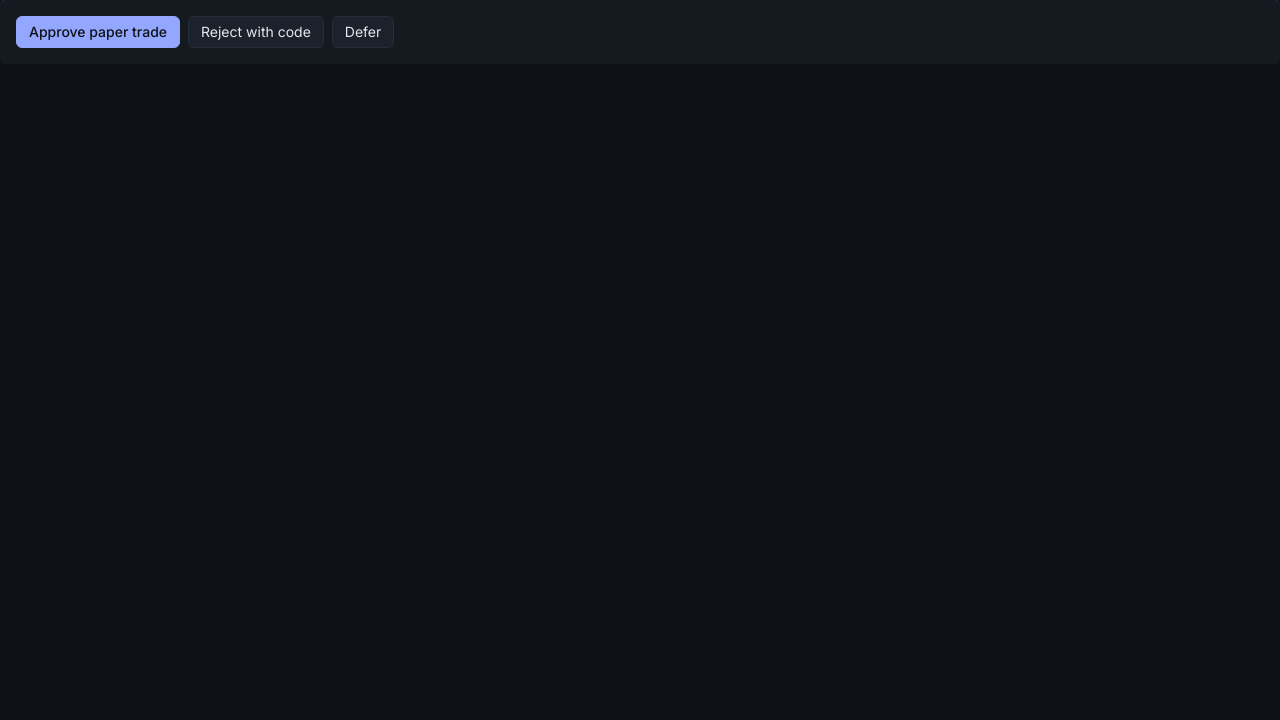
Test: errors › a refused approve shows the server's reason and keeps the brief open
What coordinates should you click on to do the following:
click the button "Approve paper trade"
I would click on:
 (98, 32)
Its box is [16,16,180,48].
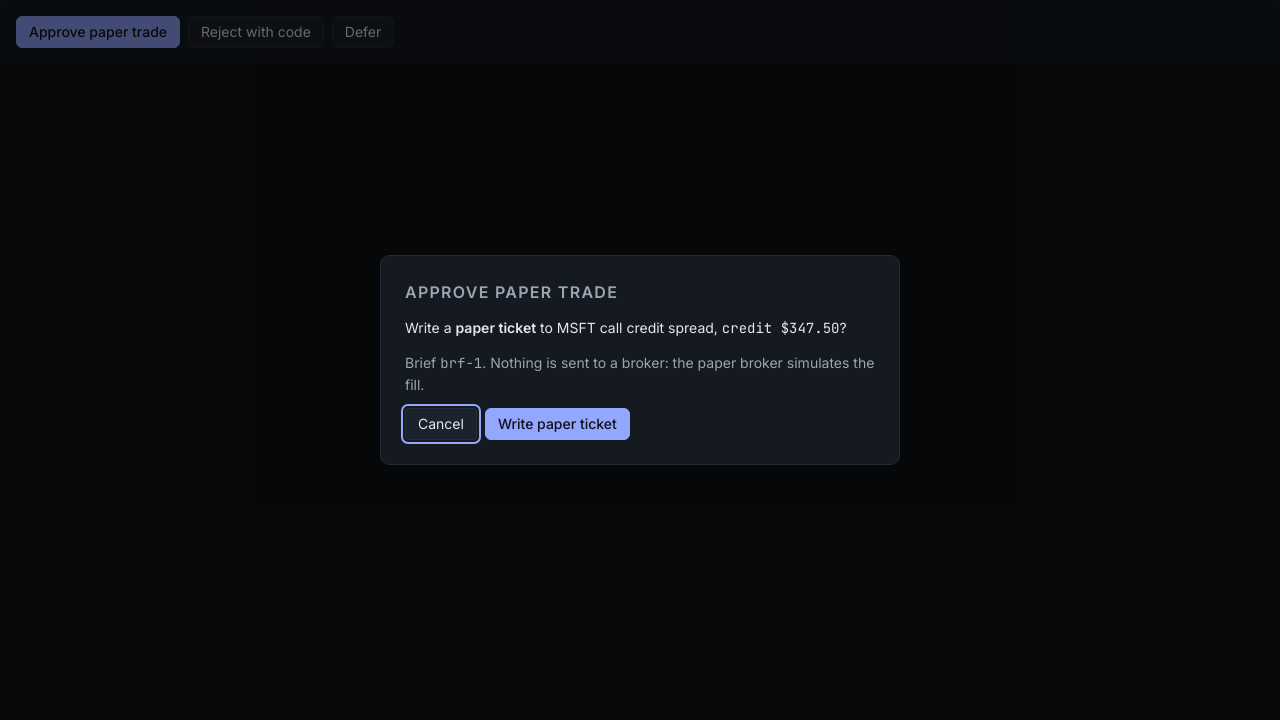
What coordinates should you click on to do the following:
click the button "Write paper ticket"
I would click on:
 (557, 424)
Its box is [485,408,630,440].
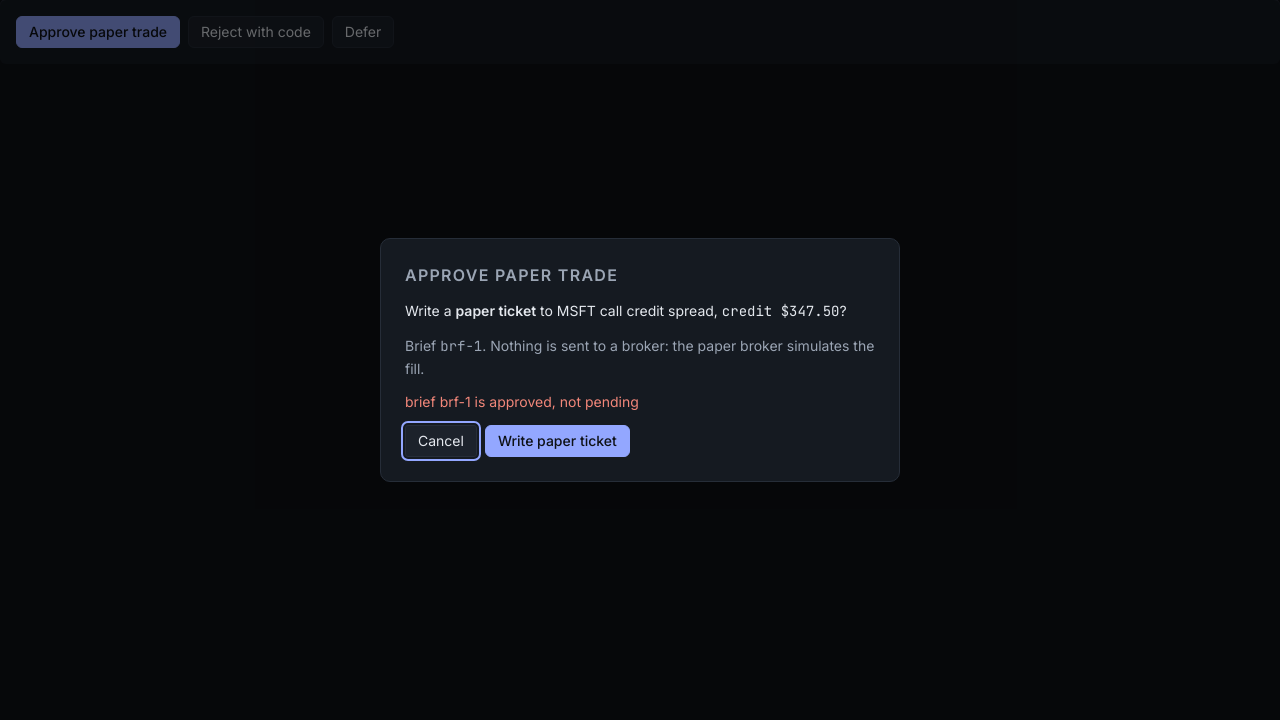
Result: the message shows "is approved, not pending" at [405,393,639,410]
